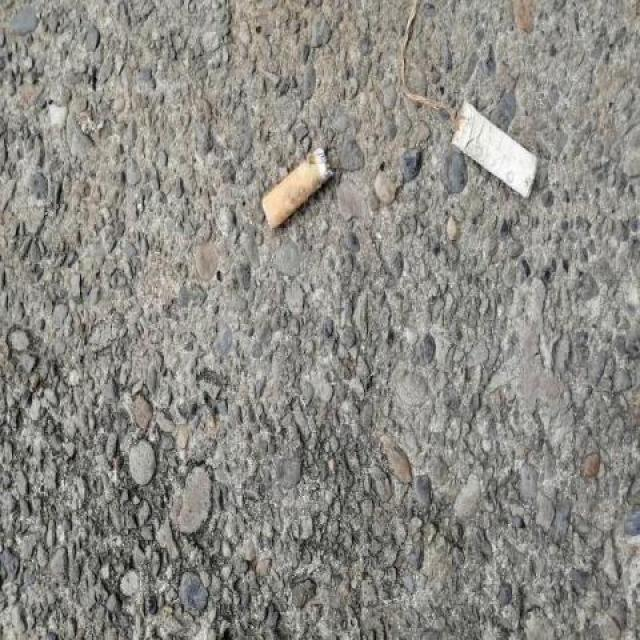non-organic waste: (441, 94, 544, 201), (257, 144, 336, 232)
